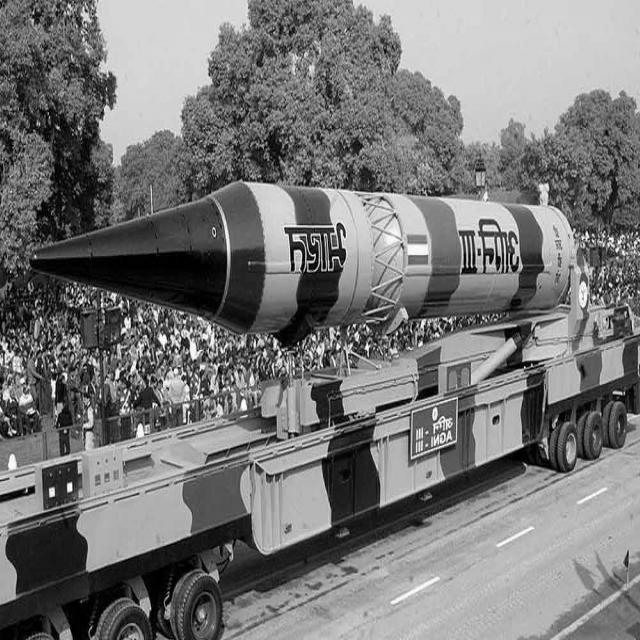missile: (22, 182, 585, 326)
